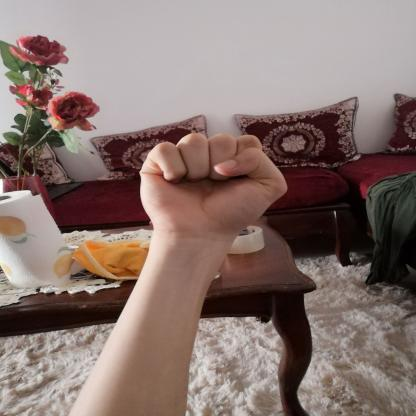SAD: (125, 122, 303, 245)
